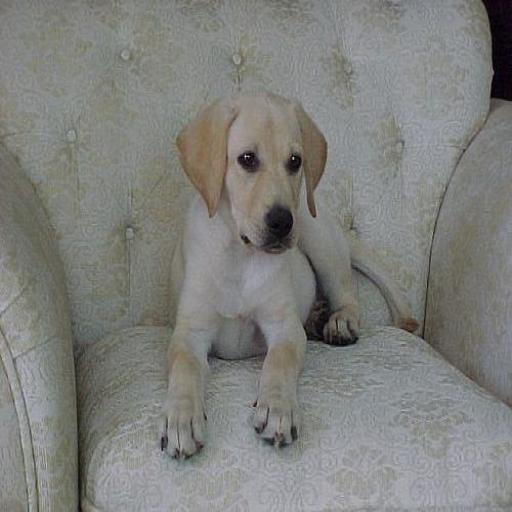dog_face: (184, 96, 337, 255)
